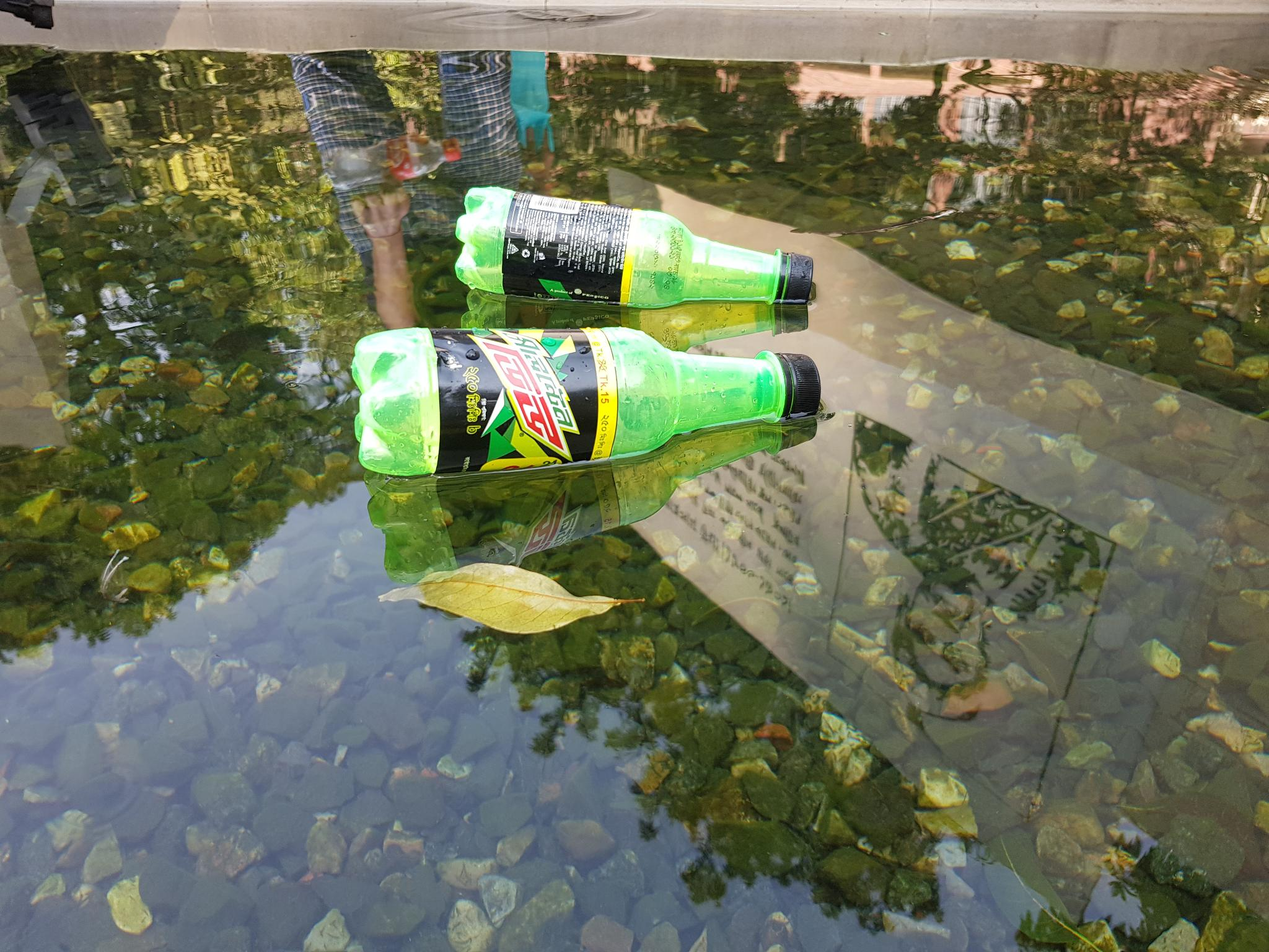trash_plastic: (355, 328, 820, 479), (455, 186, 816, 322)
